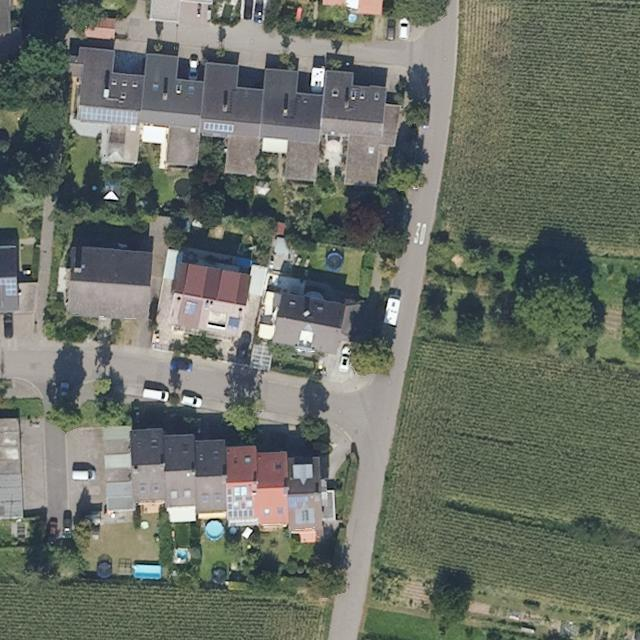PV: (77, 105, 140, 126), (226, 486, 256, 522), (202, 120, 235, 133)
